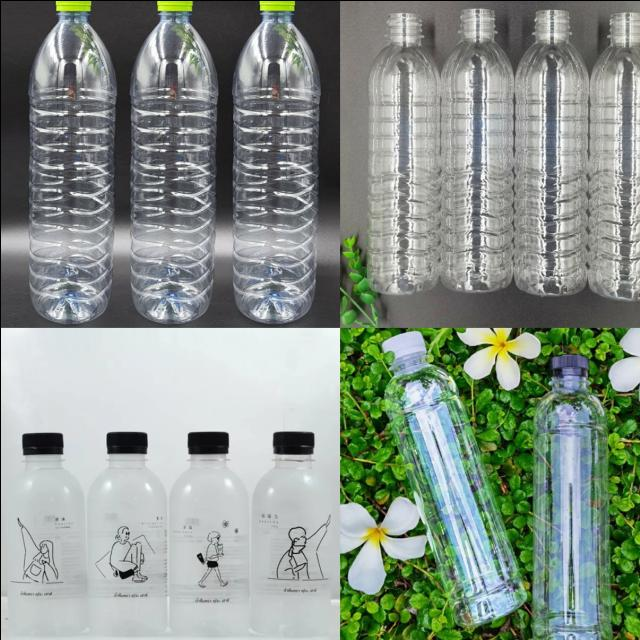plastik: (382, 330, 525, 625), (129, 0, 217, 323), (29, 0, 116, 323), (232, 0, 319, 323), (531, 357, 611, 640), (513, 10, 587, 295), (440, 7, 513, 290), (366, 12, 439, 294), (86, 430, 167, 635), (249, 430, 330, 635), (168, 430, 248, 635), (7, 432, 87, 634), (587, 11, 640, 300)
